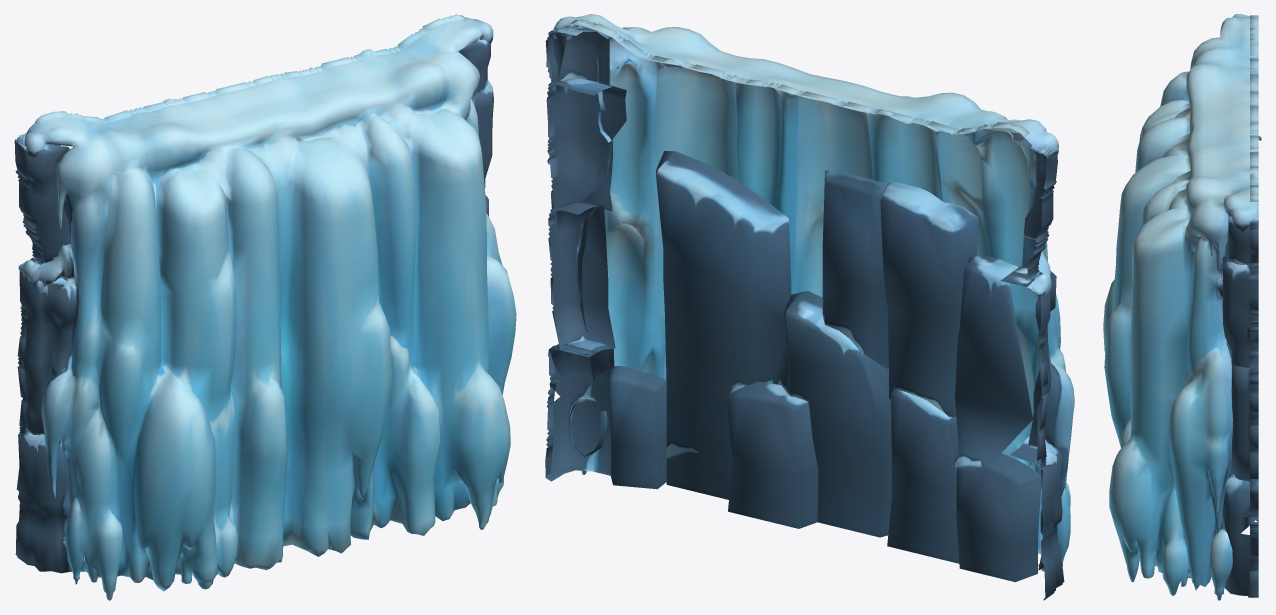
Rendered from SM_Tripo_FrostIcefallTop.glb.
3 views of the same model, side by side, from view 1: azimuth 30°, elevation 25°; view 2: azimuth 150°, elevation 25°; view 3: azimuth 270°, elevation 25° (orthographic). The views are drawn at different scales.
Parts seen in each view (by area): view 1: SM_Tripo_FrostIcefallTop_LOD0; view 2: SM_Tripo_FrostIcefallTop_LOD0; view 3: SM_Tripo_FrostIcefallTop_LOD0.
Boxes of the visible parts, x1,y1,x2,y2 form: SM_Tripo_FrostIcefallTop_LOD0: (14, 14, 516, 600); SM_Tripo_FrostIcefallTop_LOD0: (545, 14, 1074, 600); SM_Tripo_FrostIcefallTop_LOD0: (1103, 14, 1261, 600).
Bounding box in the file's own units: 13.02 × 12 × 4.24.
Materials: 1 (1 with a texture image).
